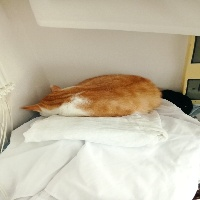asleep: (20, 74, 161, 117)
